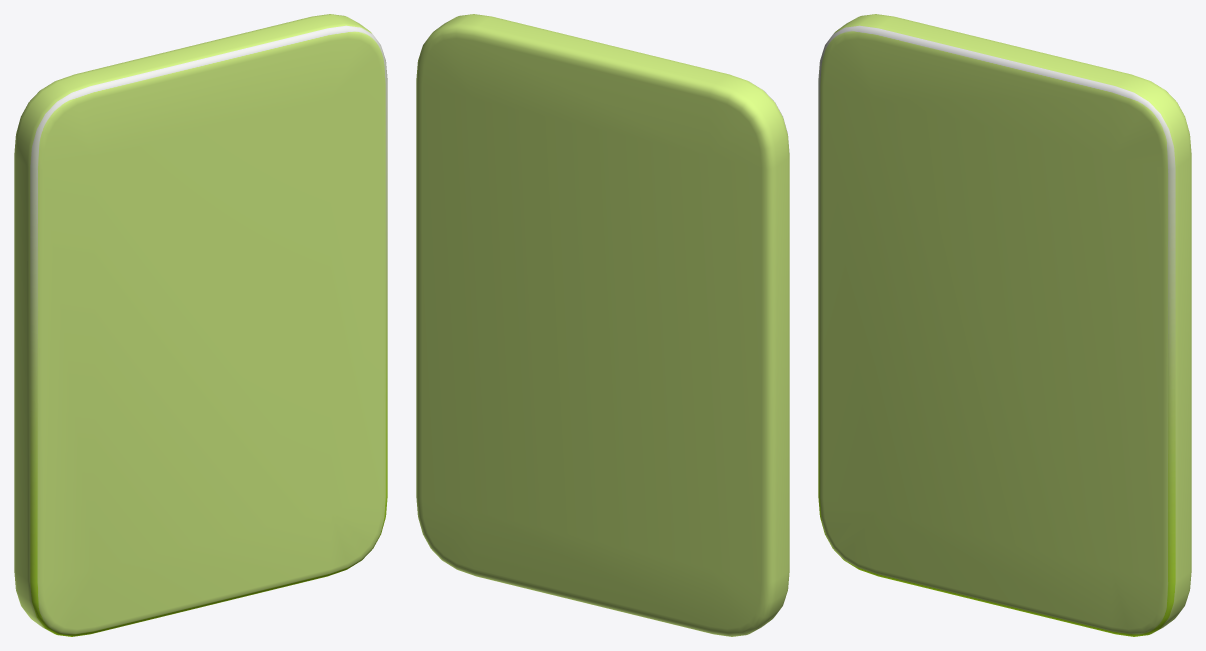
File: card-green.glb
3 views of the same model, side by side, from view 1: azimuth 30°, elevation 25°; view 2: azimuth 150°, elevation 25°; view 3: azimuth 330°, elevation 25° (orthographic).
Parts seen in each view (by area): view 1: Card; view 2: Card; view 3: Card.
Boxes of the visible parts, box(x1,y1,x2,y2) form: Card: box(14, 14, 387, 636); Card: box(416, 14, 789, 636); Card: box(818, 14, 1191, 636).
Size of the model in its own units: 11.63 by 17.02 by 1.28.
1 material, 1 textured.
